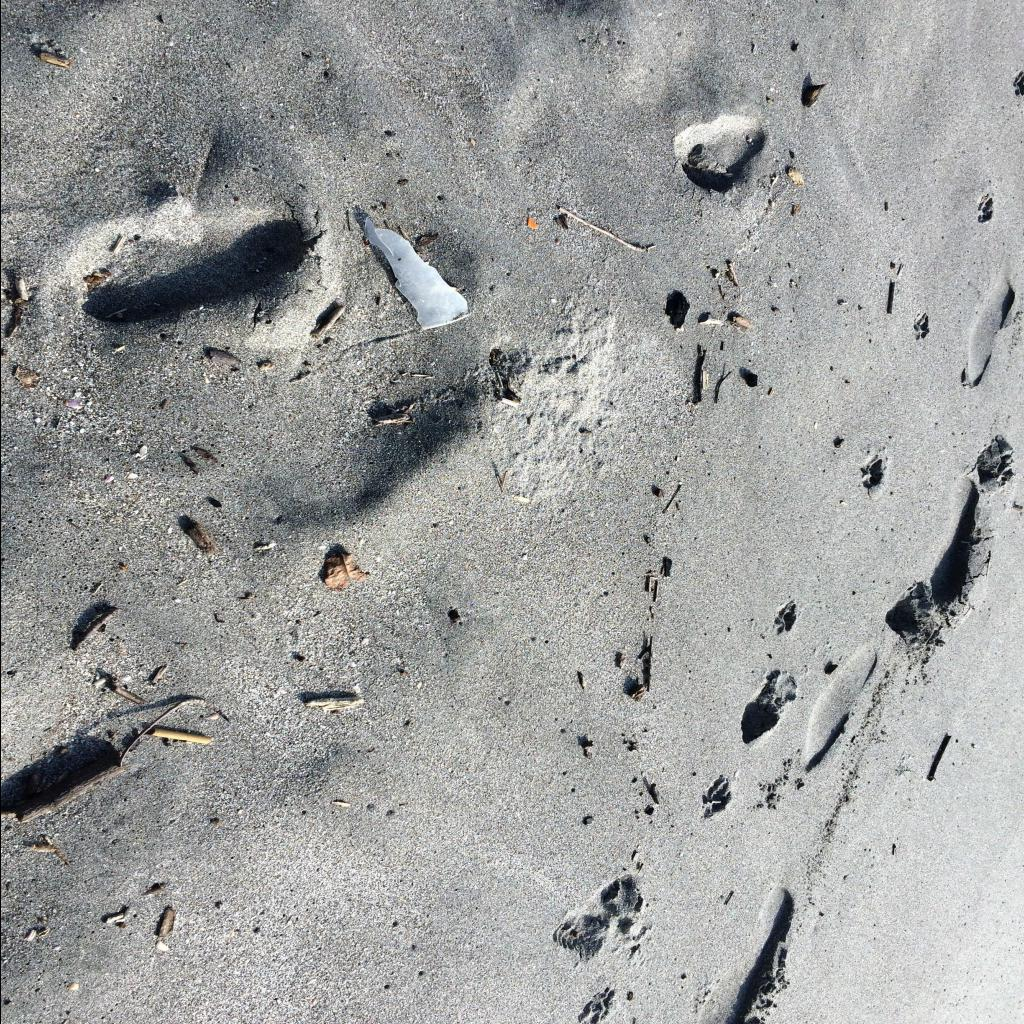Other plastic bottle: (364, 218, 469, 330), (528, 217, 538, 229)
